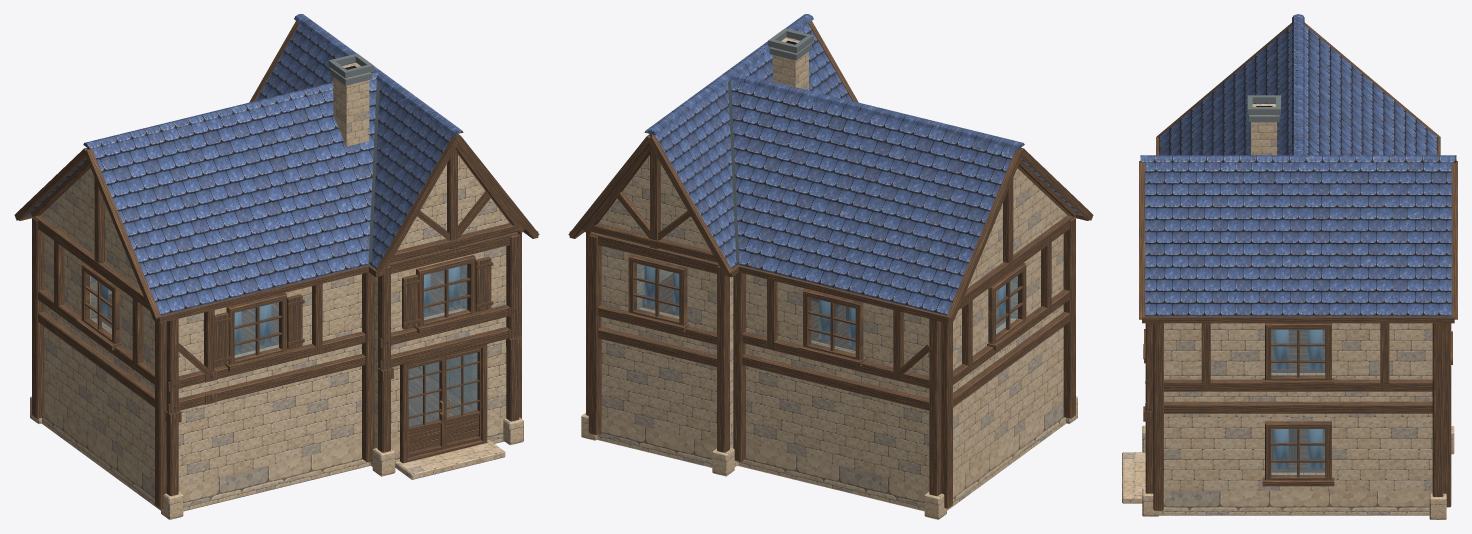
File: B01_Blue_Roof_Shop.glb
3 renders of one model, left to right at view 1: azimuth 30°, elevation 25°; view 2: azimuth 150°, elevation 25°; view 3: azimuth 270°, elevation 25°, orthographic.
Parts seen in each view (by area): view 1: B01_Blue_Roof_Shop_Game; view 2: B01_Blue_Roof_Shop_Game; view 3: B01_Blue_Roof_Shop_Game.
Boxes of the visible parts, x1=… form: B01_Blue_Roof_Shop_Game: x1=14, y1=14, x2=539, y2=519; B01_Blue_Roof_Shop_Game: x1=568, y1=14, x2=1093, y2=519; B01_Blue_Roof_Shop_Game: x1=1122, y1=14, x2=1457, y2=519.
Size of the model in its own units: 8.83 by 8.16 by 6.88.
Materials: 9 (3 with a texture image).
